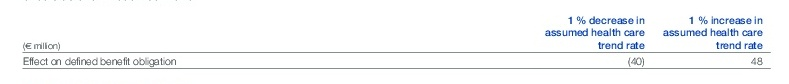table: (0, 0, 789, 84)
